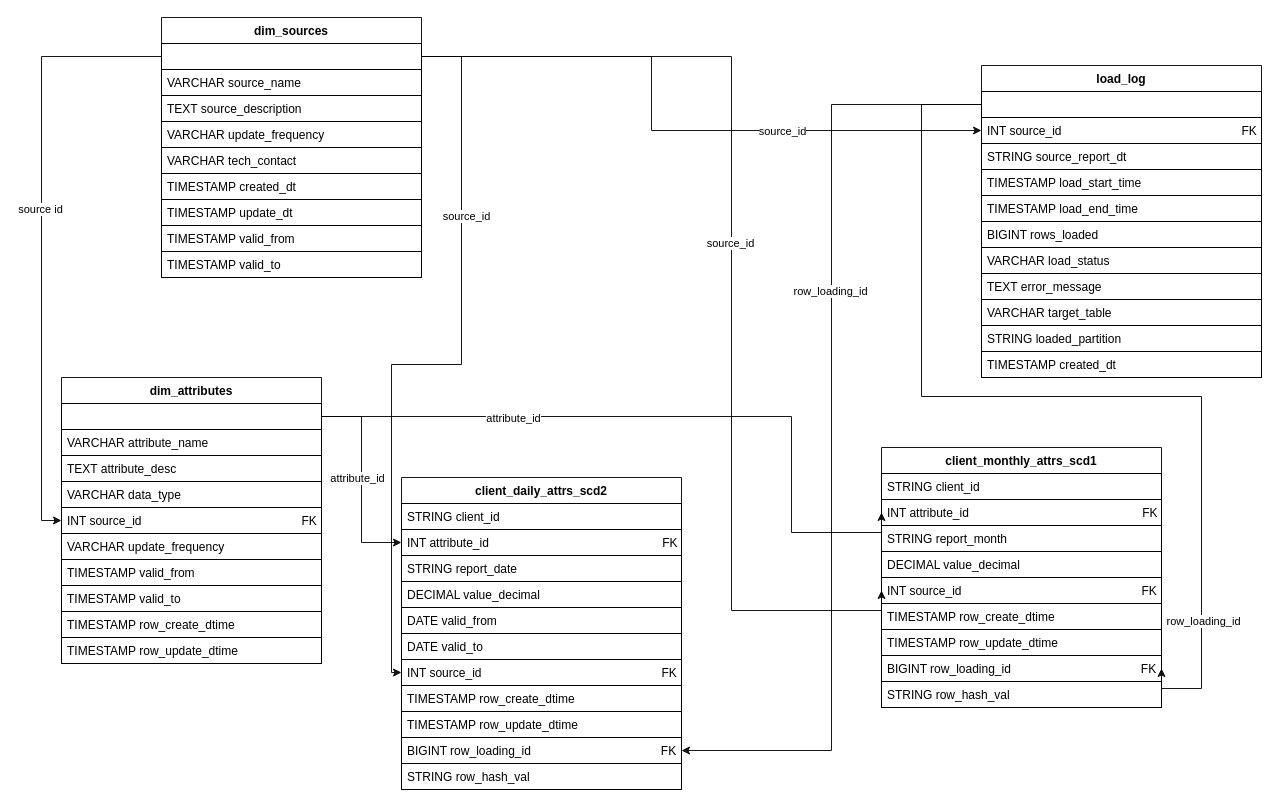
The diagram is 1279 pixels wide and 810 high, and some of its shapes have lost their labels. Here are the shapes that lost their labels. From the top down, the centre of each, then its label:
the point at 291,56: INT source_id PK
the point at 1121,104: BIGINT load_id PK
the point at 191,416: INT attribute_id PK
